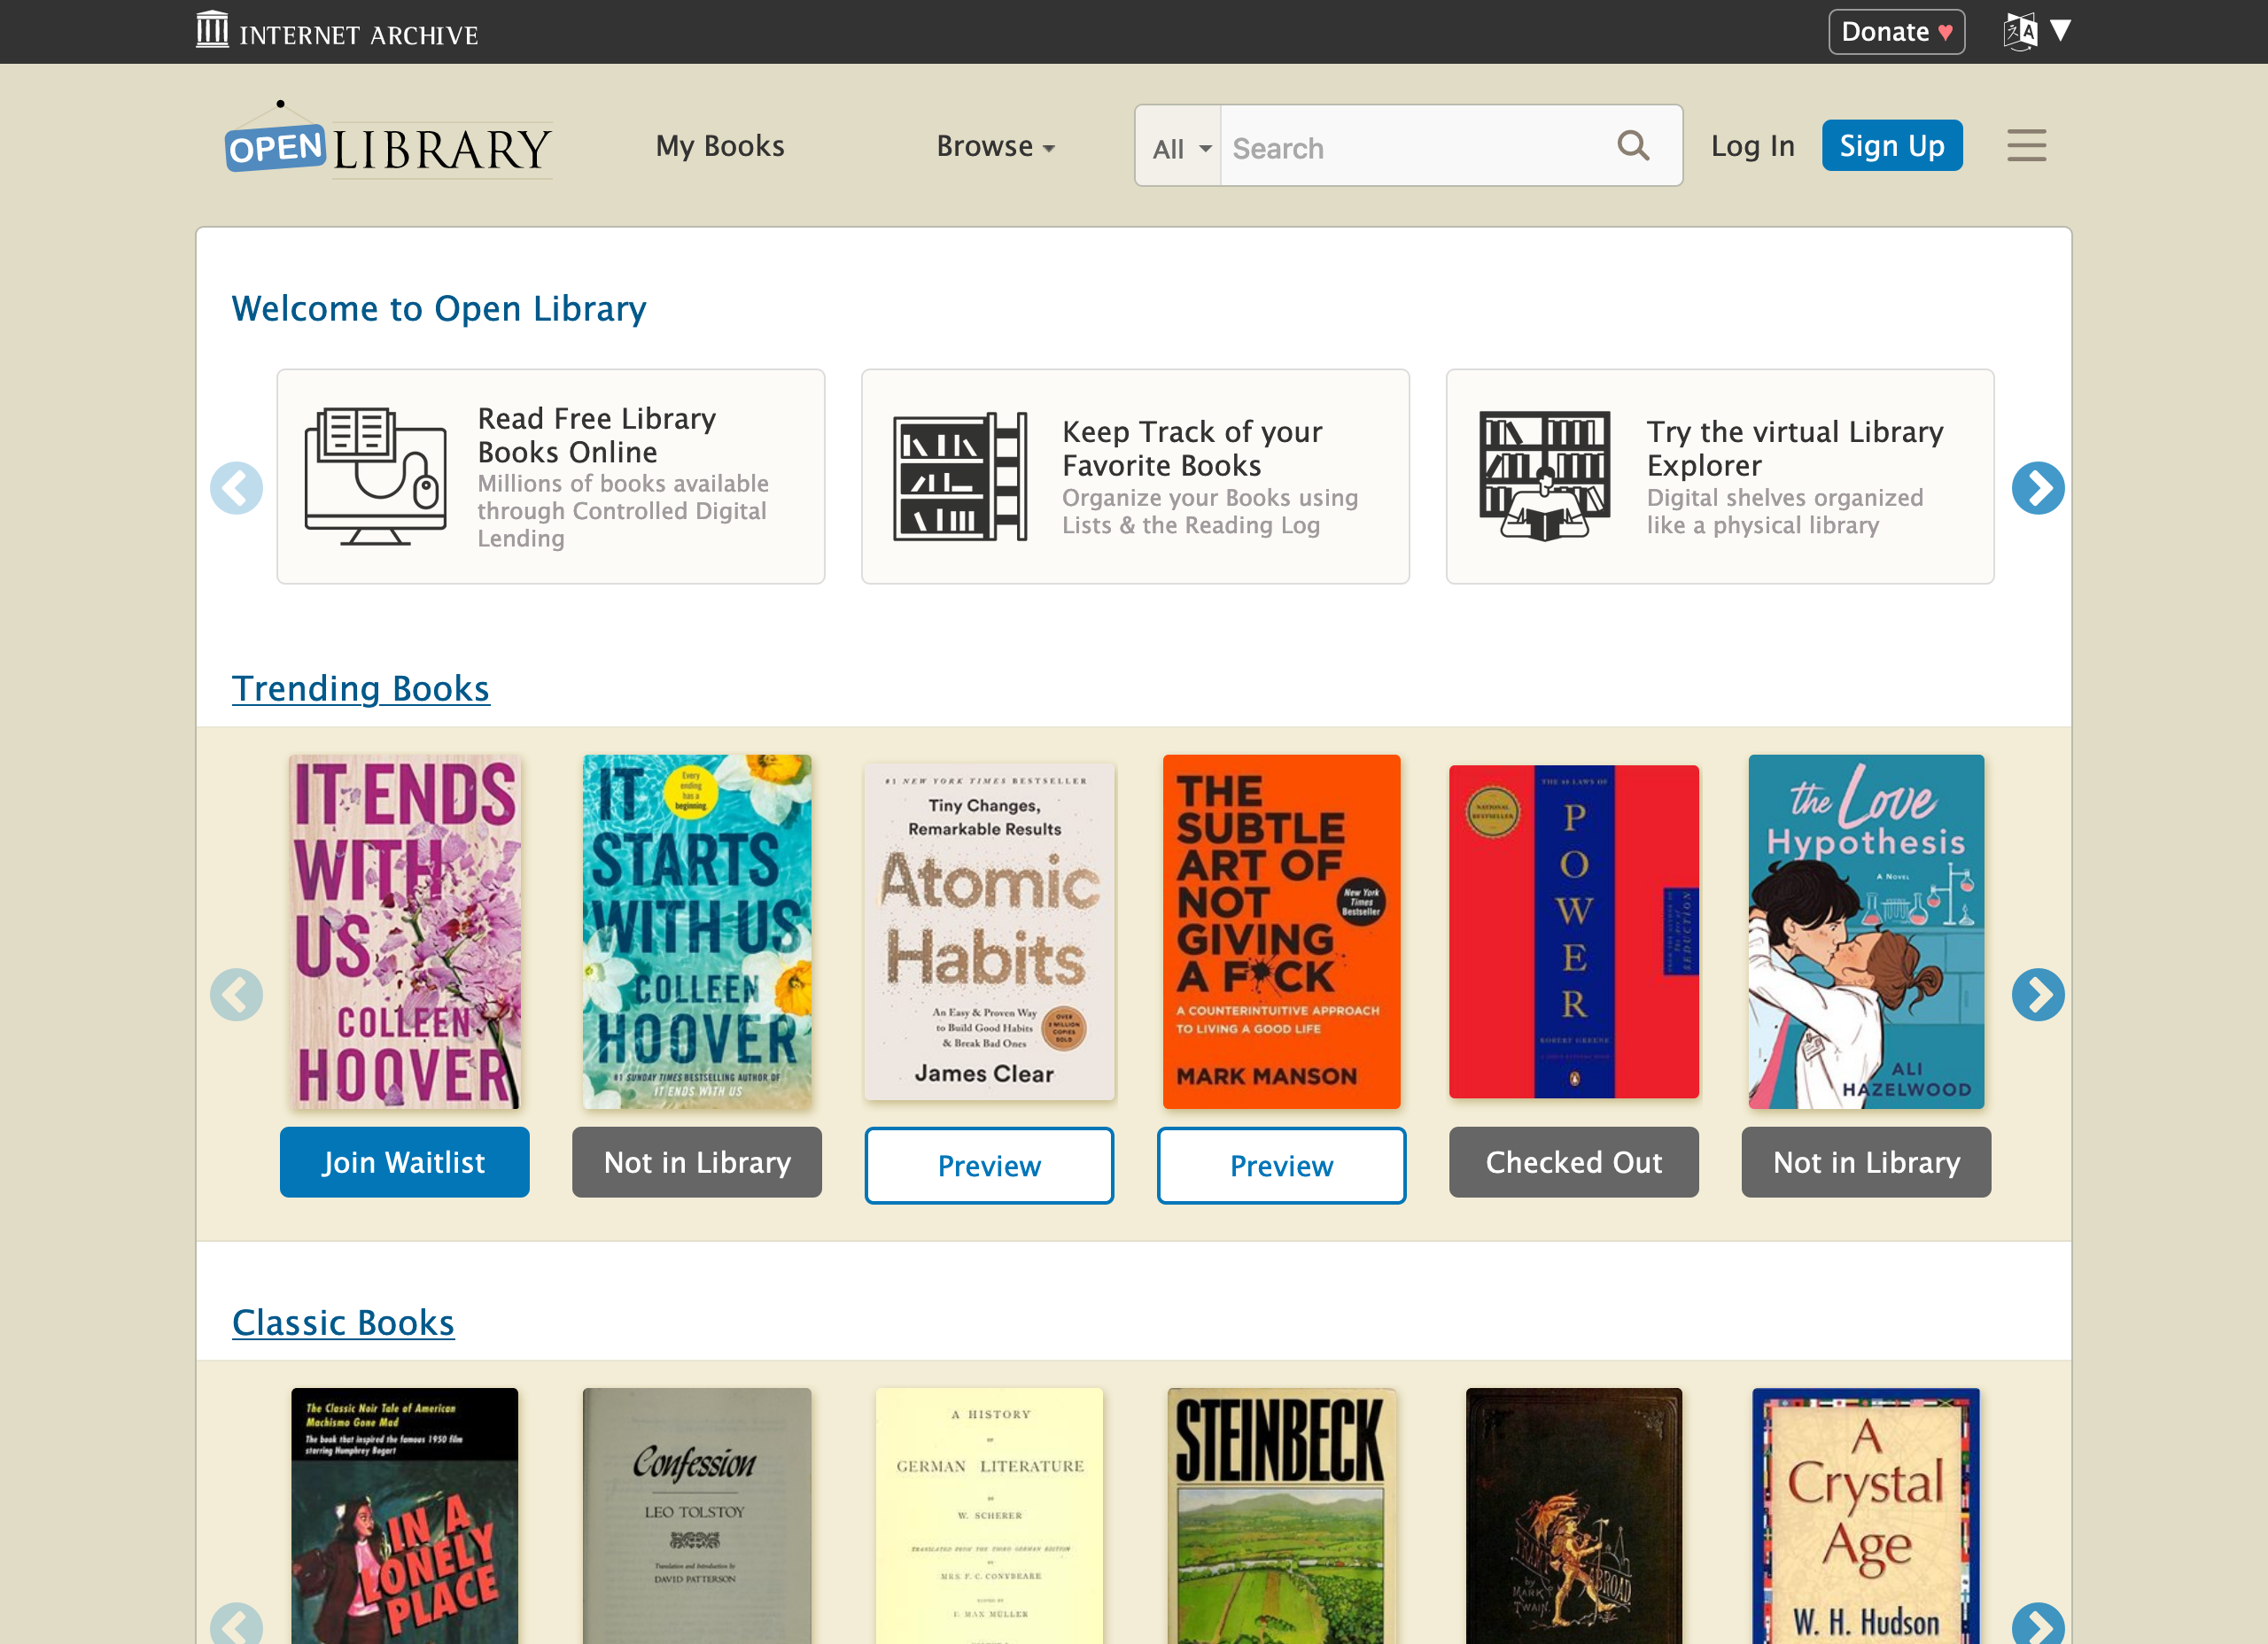Login: (1703, 111, 1805, 178)
